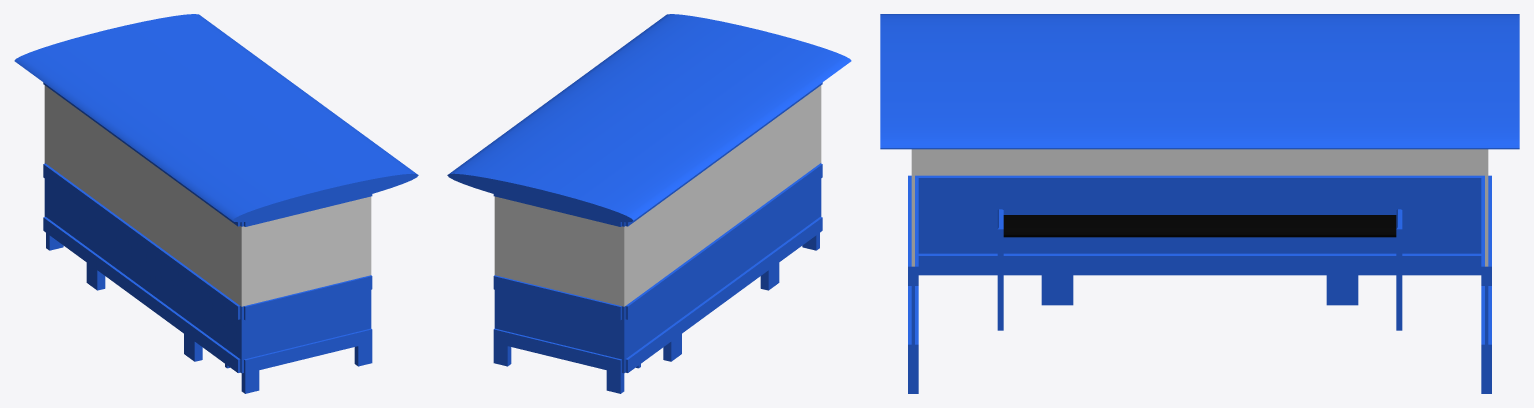
File: bus_stop.fbx
3 renders of one model, left to right at view 1: azimuth 30°, elevation 25°; view 2: azimuth 150°, elevation 25°; view 3: azimuth 270°, elevation 25°, orthographic. The views are drawn at different scales.
Visible parts, largest first — view 1: Cube, window; view 2: Cube, window; view 3: Cube, window, Cube.001.
Boxes of the visible parts, box(x1,y1,x2,y2) form: Cube: box(14, 14, 418, 393); window: box(44, 85, 371, 306); Cube: box(447, 14, 851, 393); window: box(494, 85, 821, 306); Cube: box(880, 14, 1519, 393); window: box(911, 149, 1488, 266); Cube.001: box(1003, 215, 1396, 237).
Bounding box in the file's own units: 473 × 472 × 960.
